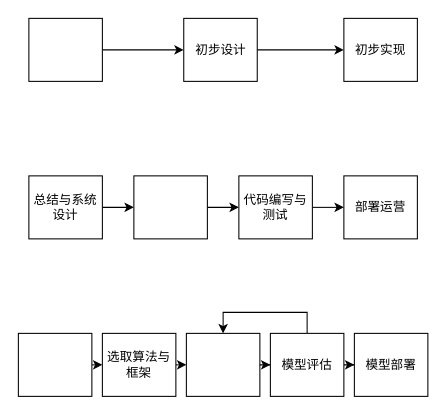
The diagram is 446 pixels wide and 415 high, and some of its shapes have lost their labels. Each missing label, with the centre of its shape:
"数据处理" belongs at pixel 54 364.
"构件与接口设计" belongs at pixel 170 207.
"模型训练" belongs at pixel 222 364.
"需求分析" belongs at pixel 65 49.
